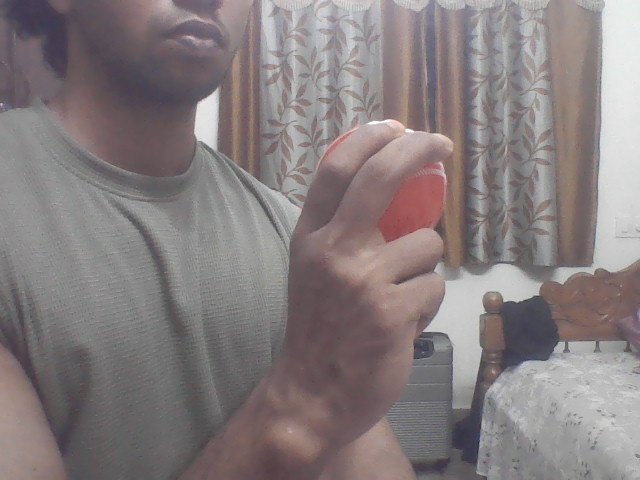cricket_ball: (318, 126, 461, 230)
